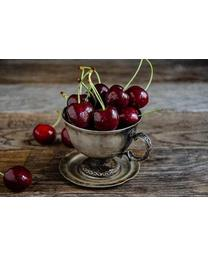cherry: (3, 166, 34, 191), (67, 102, 93, 128), (124, 85, 150, 109), (92, 108, 119, 131), (33, 122, 57, 146), (105, 87, 130, 110), (89, 84, 111, 105), (117, 107, 139, 126)
